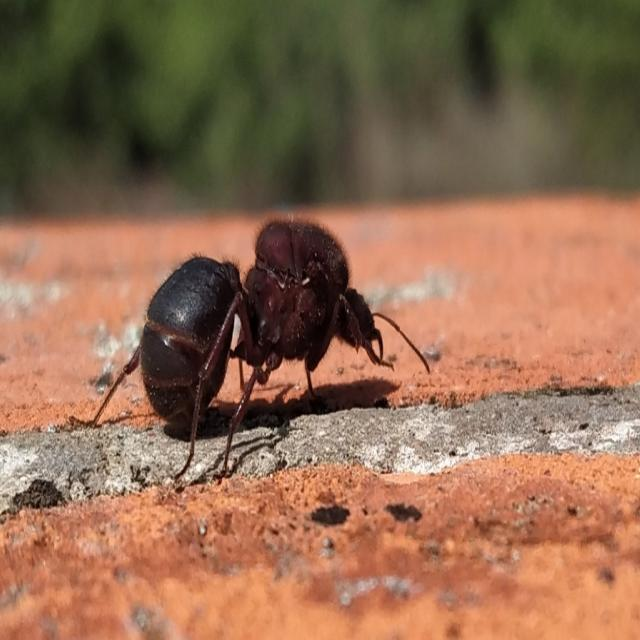Alive-Female-Dealate: (69, 218, 431, 482)
